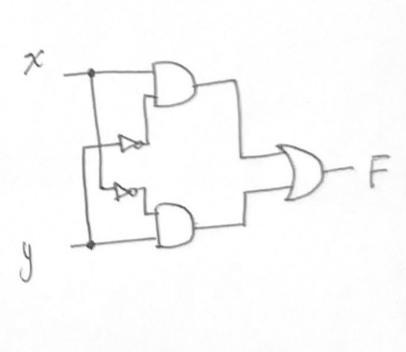AND: (149, 200, 209, 255), (148, 58, 201, 114)
NOT: (116, 129, 144, 160)
OR: (269, 135, 337, 210)
